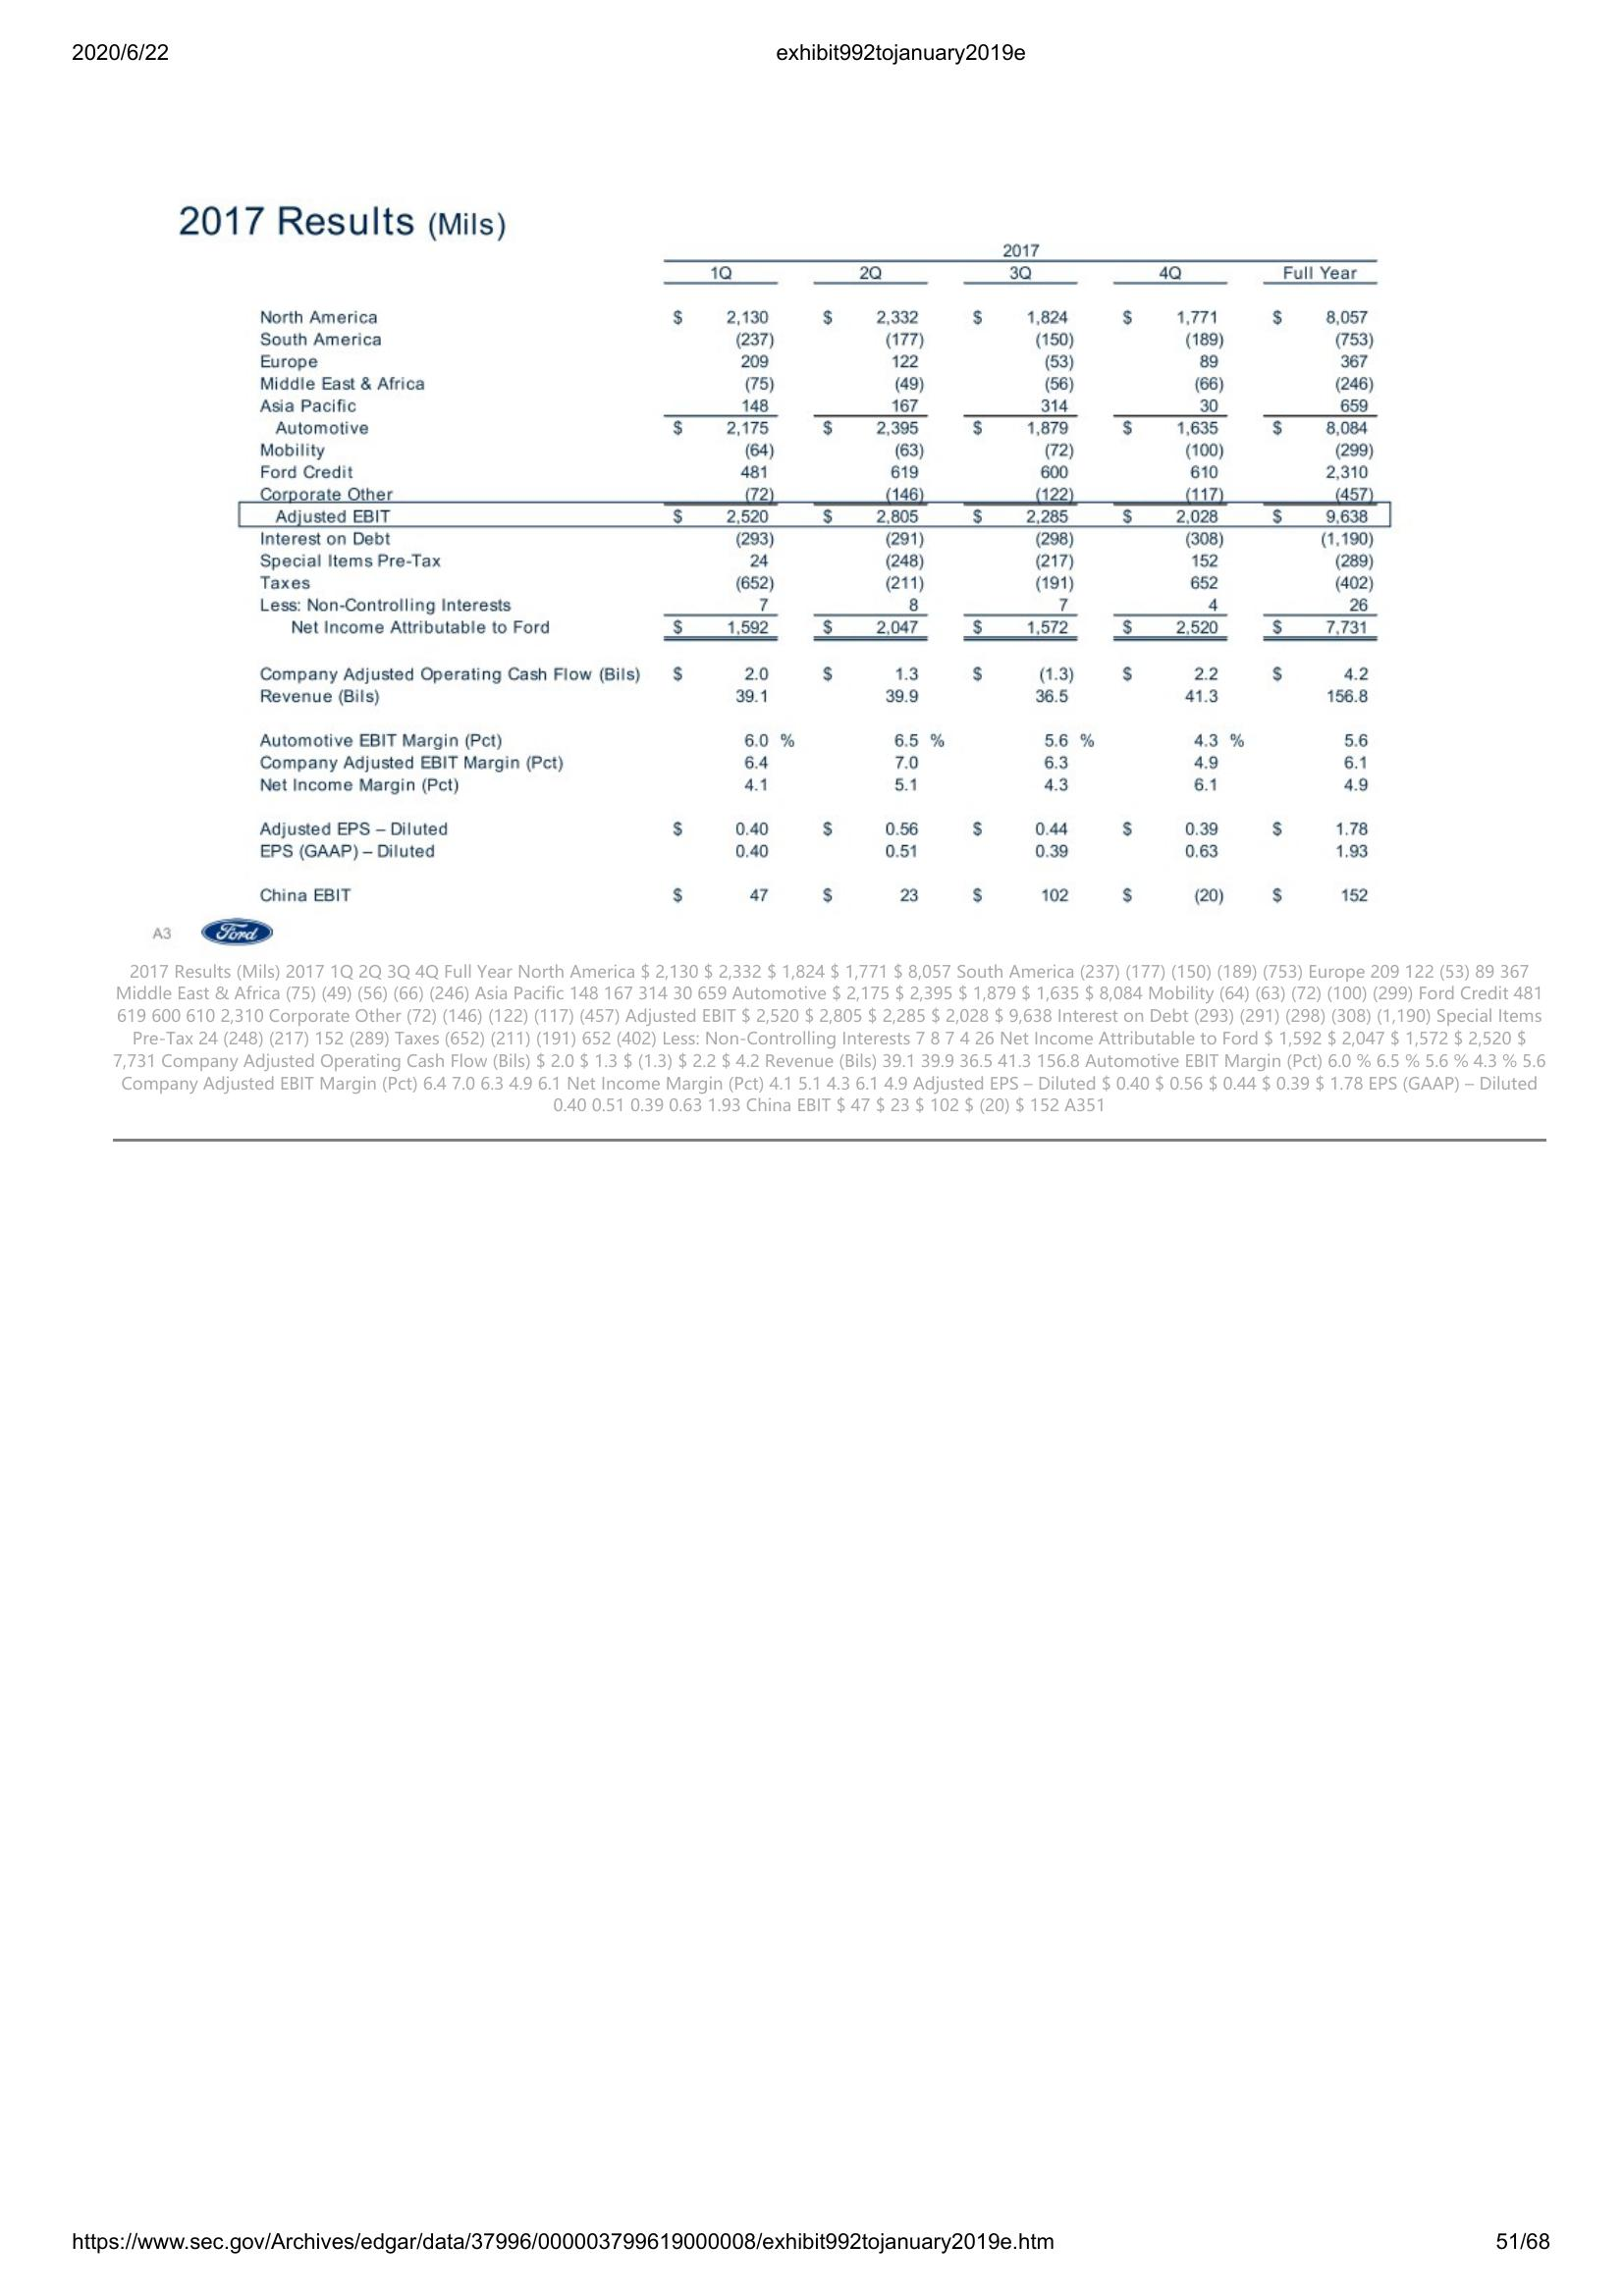table: (230, 237, 1396, 908)
